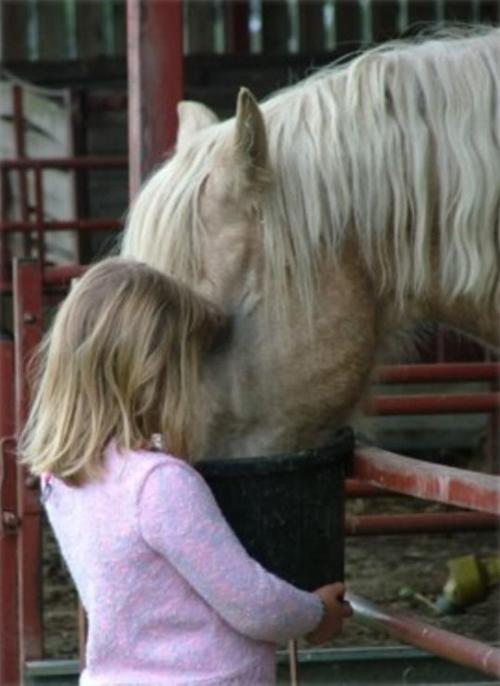person: (20, 256, 354, 686)
